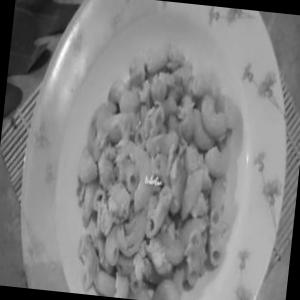pasta: (57, 30, 250, 300)
